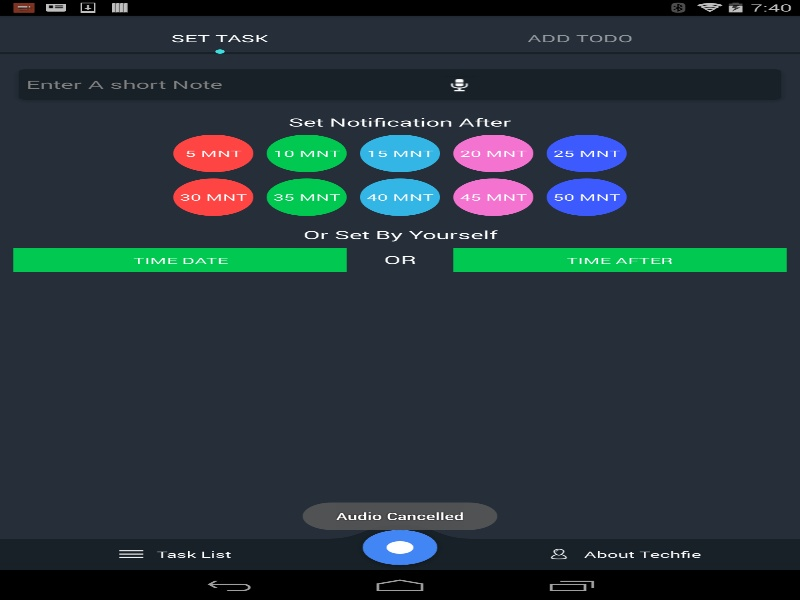Button: (13, 248, 346, 273), (453, 248, 786, 273), (346, 518, 453, 576), (173, 134, 253, 172), (266, 134, 346, 172), (360, 134, 440, 172), (453, 134, 533, 172), (546, 134, 626, 172), (173, 178, 253, 215), (266, 178, 346, 215), (360, 178, 440, 215), (453, 178, 533, 215), (546, 178, 626, 215)
Input: (20, 70, 438, 98)
